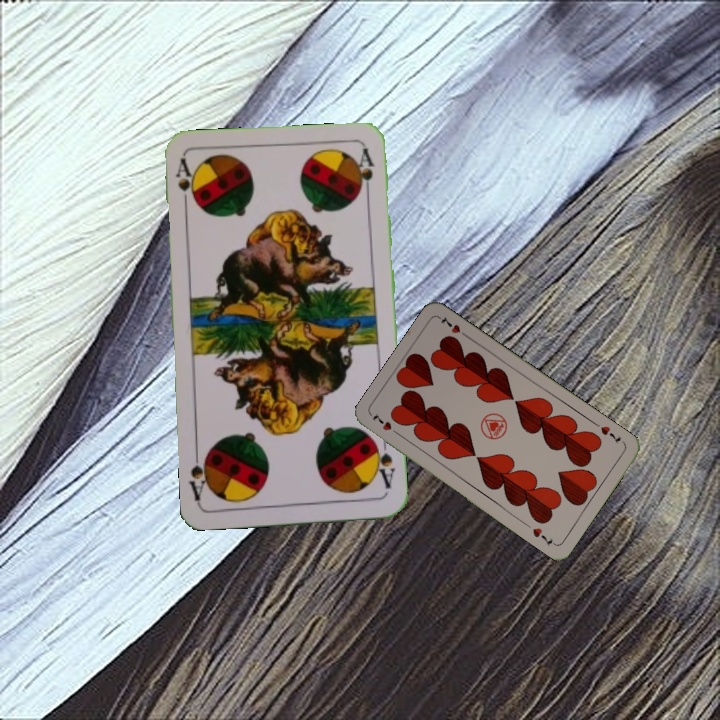H7: (368, 409, 403, 439), (596, 422, 624, 446)
SA: (171, 155, 200, 214), (370, 436, 397, 491)
